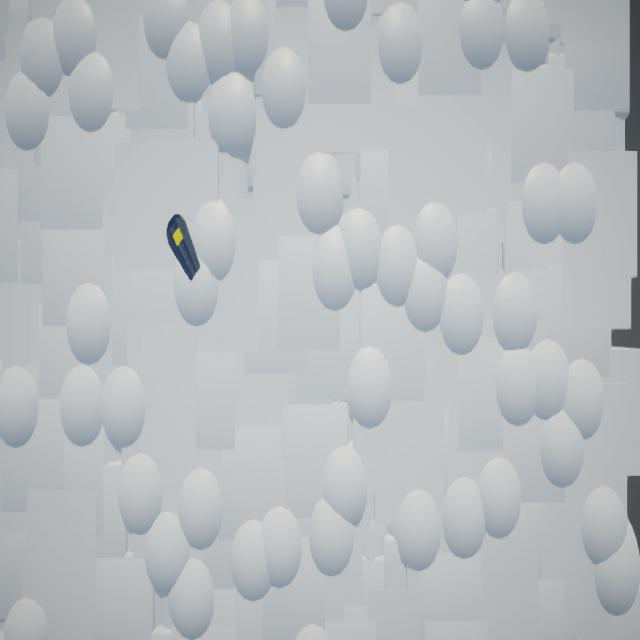handle_folk: (167, 215, 202, 282)
